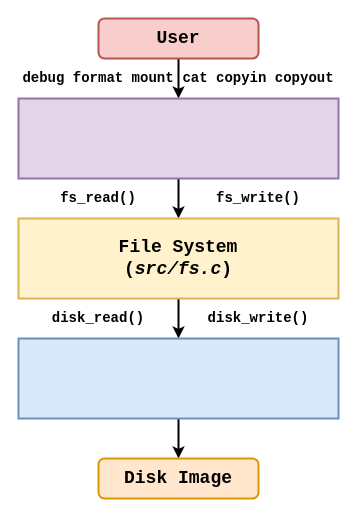
Image size: 356x516. Some labels were removed from this diagram. The centre of each missing label's shape, as x and y in pixels:
Disk Emulator ( src/disk.c ): [178,378]
Shell Program ( src/sfssh.c ): [178,138]
